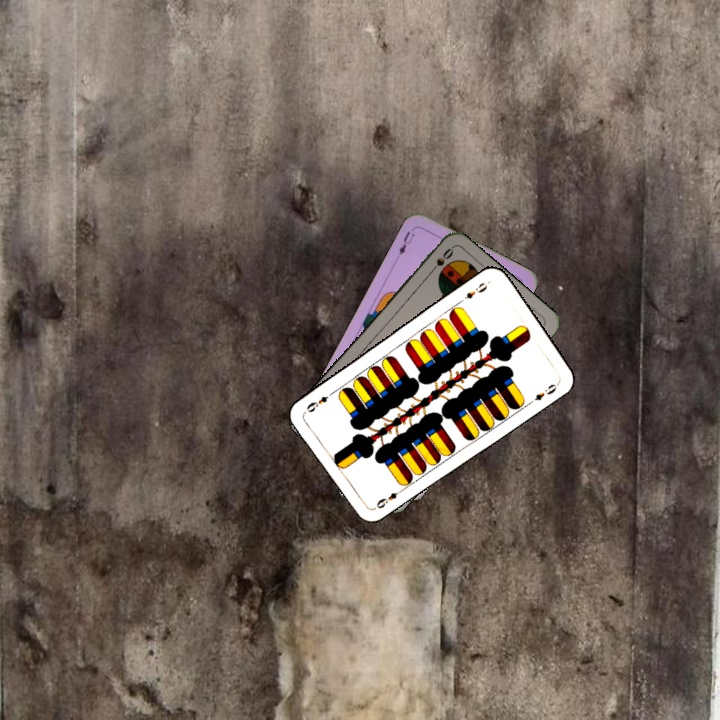E9: (369, 485, 406, 512), (461, 278, 490, 302)
EU: (393, 227, 417, 261)
SO: (425, 244, 456, 278)
